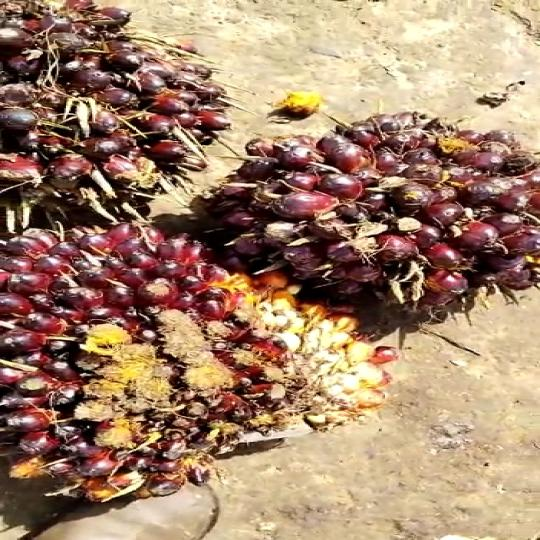kurang masak: (0, 220, 365, 501), (193, 79, 540, 328), (0, 0, 233, 233)
